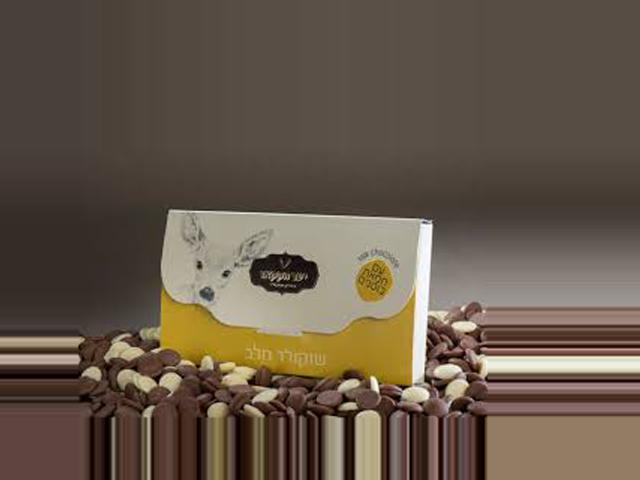chocolate: (141, 199, 444, 392)
